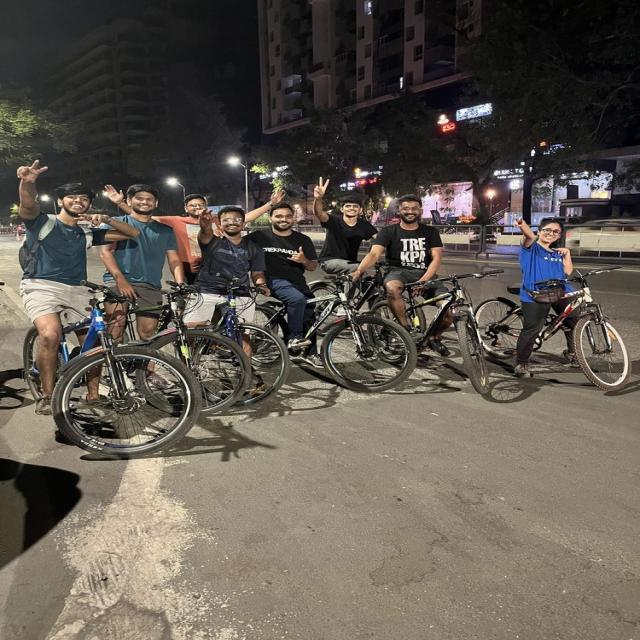bicycle: (17, 161, 200, 457), (102, 185, 252, 412), (245, 204, 417, 391), (352, 195, 503, 394), (475, 220, 630, 391)
